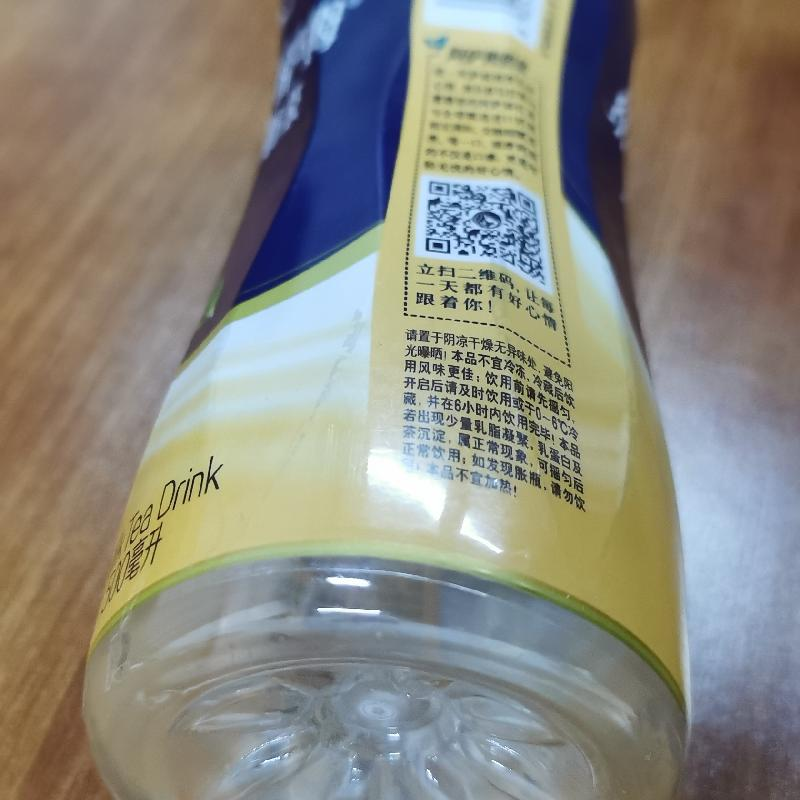bottles: (79, 3, 696, 799)
